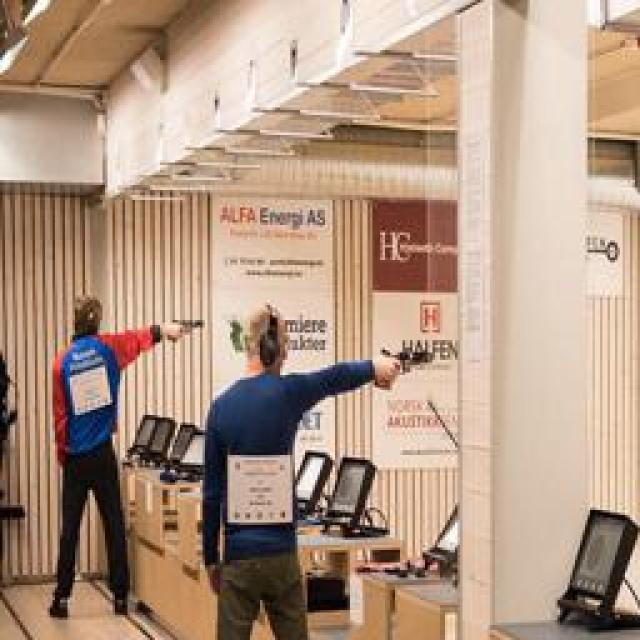Guns: (379, 315, 460, 413), (148, 309, 202, 359)
